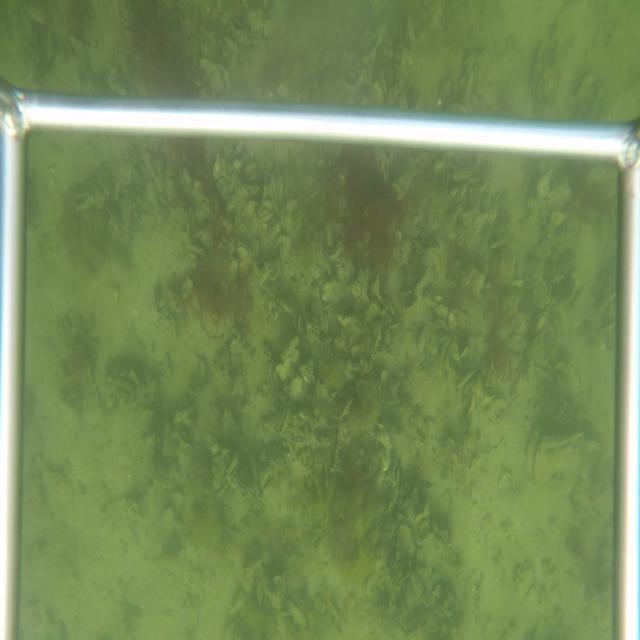Oyster-Closed: (327, 236, 342, 260), (249, 457, 259, 482), (326, 221, 334, 248)
Oyster-Open: (277, 407, 291, 436), (237, 242, 253, 259), (294, 311, 304, 333)
